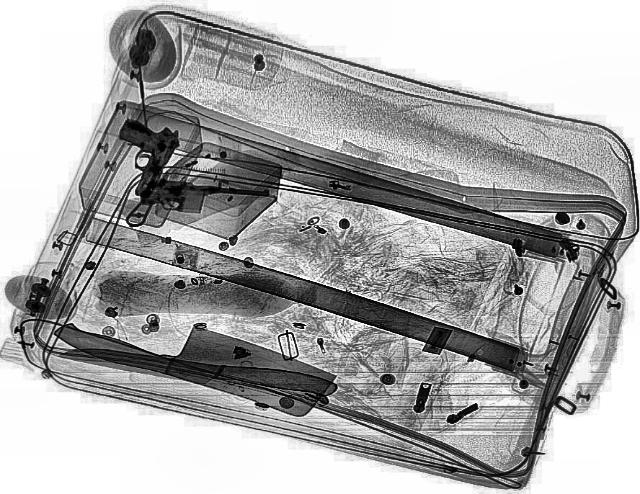Gun: (118, 167, 272, 226), (106, 116, 182, 196)
Knife: (42, 290, 344, 424), (47, 336, 347, 410)
